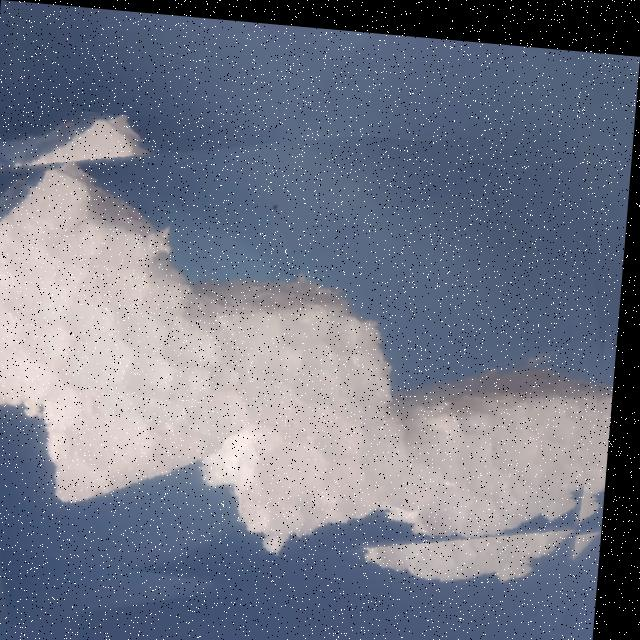litter: (0, 103, 633, 628)
